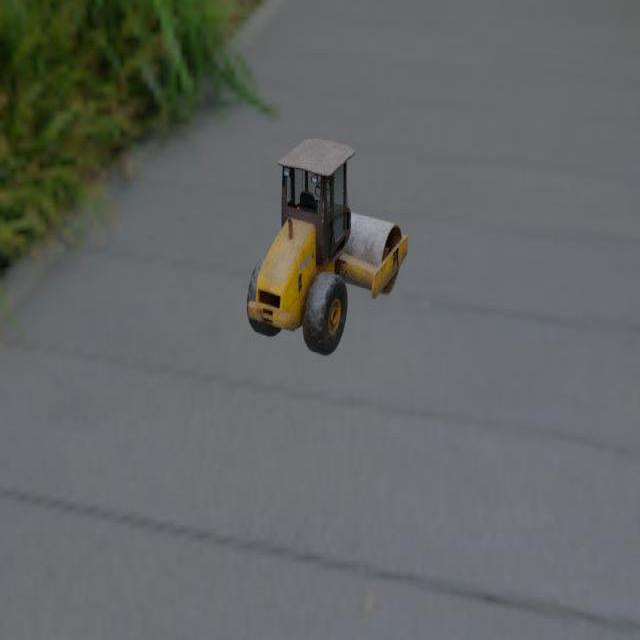Roller: (246, 137, 408, 356)
